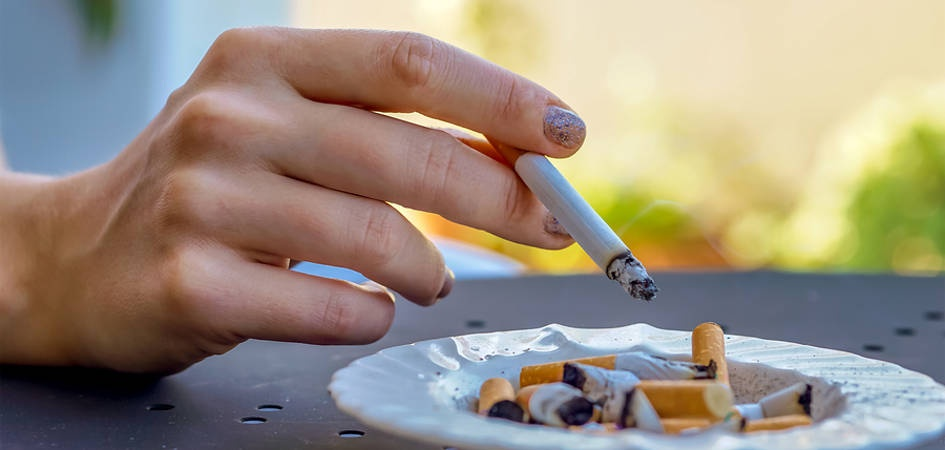sigaretta: (486, 106, 655, 312)
